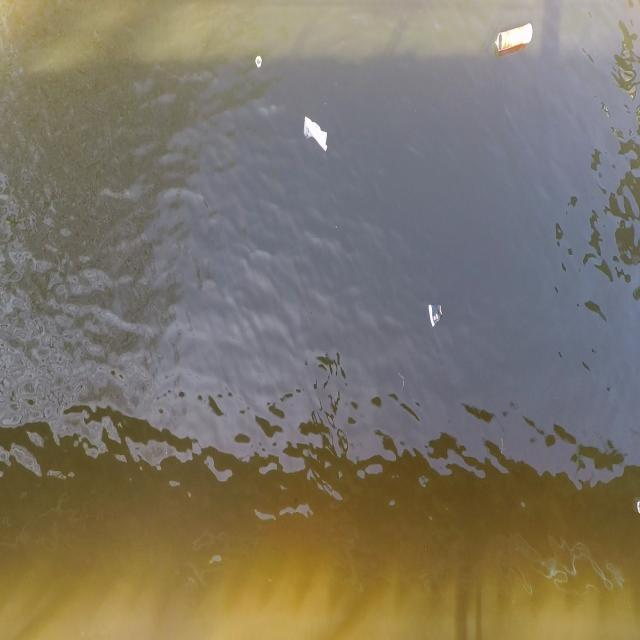Non plastique: (425, 299, 446, 333)
Sac plastique: (297, 112, 334, 157)
